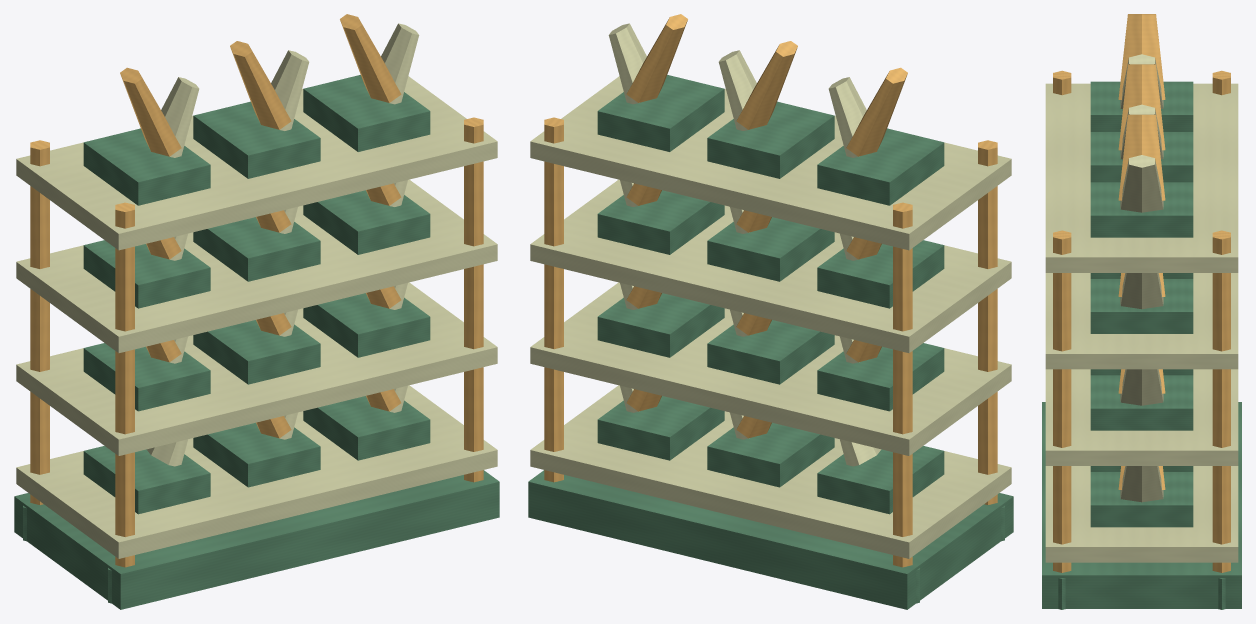
The model's file is atlas100-s005-a01.lod1.glb.
The picture shows the model from 3 angles, left to right: view 1: azimuth 30°, elevation 25°; view 2: azimuth 150°, elevation 25°; view 3: azimuth 270°, elevation 25°; orthographic projection. The views are drawn at different scales.
Parts seen in each view (by area): view 1: atlas100-s005-a01:part-000, atlas100-s005-a01:part-041, atlas100-s005-a01:part-021, atlas100-s005-a01:part-031, atlas100-s005-a01:part-011, atlas100-s005-a01:part-048, atlas100-s005-a01:part-042, atlas100-s005-a01:part-045, atlas100-s005-a01:part-005, atlas100-s005-a01:part-009, atlas100-s005-a01:part-018, atlas100-s005-a01:part-015 (+15 smaller); view 2: atlas100-s005-a01:part-000, atlas100-s005-a01:part-041, atlas100-s005-a01:part-021, atlas100-s005-a01:part-031, atlas100-s005-a01:part-011, atlas100-s005-a01:part-048, atlas100-s005-a01:part-042, atlas100-s005-a01:part-045, atlas100-s005-a01:part-003, atlas100-s005-a01:part-007, atlas100-s005-a01:part-018, atlas100-s005-a01:part-015 (+15 smaller); view 3: atlas100-s005-a01:part-041, atlas100-s005-a01:part-000, atlas100-s005-a01:part-011, atlas100-s005-a01:part-031, atlas100-s005-a01:part-021, atlas100-s005-a01:part-007, atlas100-s005-a01:part-009, atlas100-s005-a01:part-018, atlas100-s005-a01:part-028, atlas100-s005-a01:part-048, atlas100-s005-a01:part-038, atlas100-s005-a01:part-045 (+15 smaller).
Part boxes in pixels (x1=…): atlas100-s005-a01:part-000: x1=14, y1=470, x2=499, y2=609; atlas100-s005-a01:part-041: x1=16, y1=76, x2=497, y2=250; atlas100-s005-a01:part-021: x1=16, y1=282, x2=497, y2=455; atlas100-s005-a01:part-031: x1=16, y1=179, x2=497, y2=352; atlas100-s005-a01:part-011: x1=16, y1=385, x2=497, y2=558; atlas100-s005-a01:part-048: x1=303, y1=75, x2=430, y2=151; atlas100-s005-a01:part-042: x1=83, y1=128, x2=210, y2=205; atlas100-s005-a01:part-045: x1=193, y1=101, x2=320, y2=178; atlas100-s005-a01:part-005: x1=115, y1=202, x2=134, y2=567; atlas100-s005-a01:part-009: x1=464, y1=117, x2=483, y2=482; atlas100-s005-a01:part-018: x1=303, y1=396, x2=430, y2=460; atlas100-s005-a01:part-015: x1=193, y1=422, x2=320, y2=487; atlas100-s005-a01:part-000: x1=528, y1=470, x2=1013, y2=609; atlas100-s005-a01:part-041: x1=530, y1=76, x2=1011, y2=250; atlas100-s005-a01:part-021: x1=530, y1=282, x2=1011, y2=455; atlas100-s005-a01:part-031: x1=530, y1=179, x2=1011, y2=352; atlas100-s005-a01:part-011: x1=530, y1=385, x2=1011, y2=558; atlas100-s005-a01:part-048: x1=597, y1=75, x2=724, y2=151; atlas100-s005-a01:part-042: x1=817, y1=128, x2=944, y2=205; atlas100-s005-a01:part-045: x1=707, y1=101, x2=834, y2=178; atlas100-s005-a01:part-003: x1=893, y1=202, x2=912, y2=567; atlas100-s005-a01:part-007: x1=544, y1=117, x2=563, y2=482; atlas100-s005-a01:part-018: x1=597, y1=396, x2=724, y2=460; atlas100-s005-a01:part-015: x1=707, y1=422, x2=834, y2=487; atlas100-s005-a01:part-041: x1=1045, y1=83, x2=1238, y2=272; atlas100-s005-a01:part-000: x1=1042, y1=402, x2=1241, y2=608; atlas100-s005-a01:part-011: x1=1045, y1=466, x2=1238, y2=562; atlas100-s005-a01:part-031: x1=1045, y1=273, x2=1238, y2=369; atlas100-s005-a01:part-021: x1=1045, y1=369, x2=1238, y2=465; atlas100-s005-a01:part-007: x1=1212, y1=230, x2=1230, y2=572; atlas100-s005-a01:part-009: x1=1053, y1=230, x2=1071, y2=572; atlas100-s005-a01:part-018: x1=1090, y1=472, x2=1193, y2=527; atlas100-s005-a01:part-028: x1=1090, y1=375, x2=1193, y2=430; atlas100-s005-a01:part-048: x1=1090, y1=182, x2=1193, y2=237; atlas100-s005-a01:part-038: x1=1090, y1=279, x2=1193, y2=333; atlas100-s005-a01:part-045: x1=1090, y1=132, x2=1193, y2=182.
Bounding box in the file's own units: 2.91 × 3.51 × 1.4.
3 materials, 3 textured.
